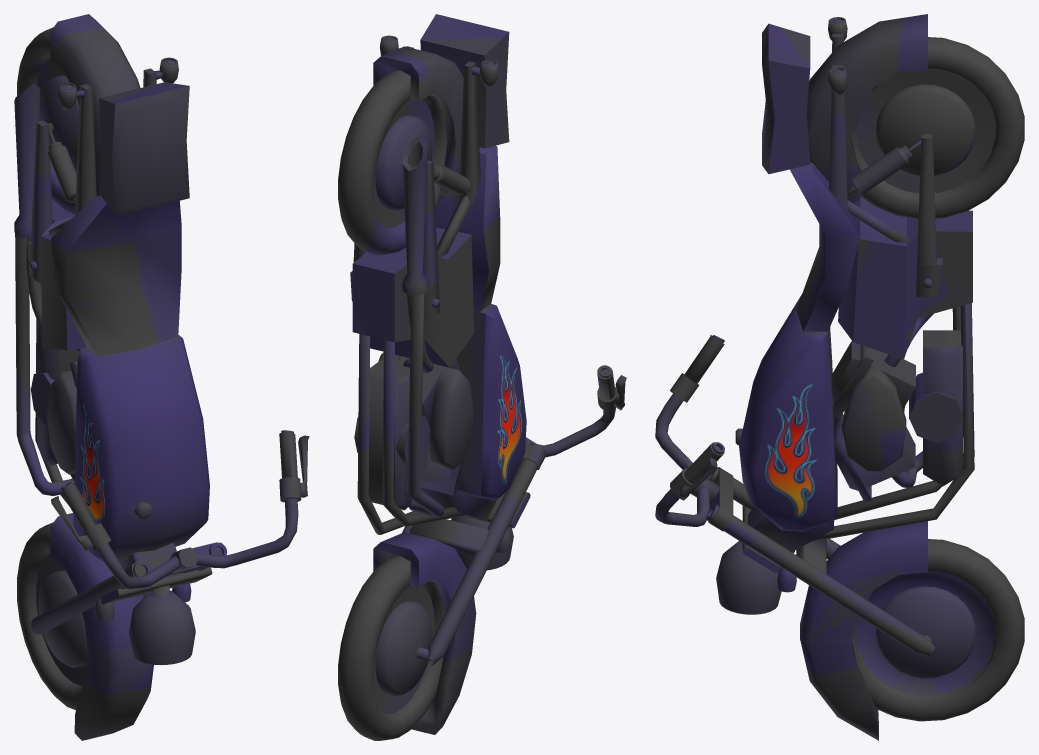
File: Bike_1.fbx
3 views of the same model, side by side, from view 1: azimuth 30°, elevation 25°; view 2: azimuth 150°, elevation 25°; view 3: azimuth 270°, elevation 25° (orthographic). The views are drawn at different scales.
Parts seen in each view (by area): view 1: MotorA.002, MotorA.001, MotorA.003, MotorA.004, MotorA.005, MotorA.006; view 2: MotorA.003, MotorA.002, MotorA.006, MotorA.001, MotorA.005, MotorA.004; view 3: MotorA.003, MotorA.002, MotorA.001, MotorA.006, MotorA.005, MotorA.004.
Part boxes in pixels (x1,y1,x2,y2): MotorA.002: [14, 14, 309, 740]; MotorA.001: [73, 70, 209, 577]; MotorA.003: [26, 56, 298, 688]; MotorA.004: [51, 195, 181, 355]; MotorA.005: [61, 82, 301, 551]; MotorA.006: [17, 27, 81, 710]; MotorA.003: [350, 46, 615, 716]; MotorA.002: [373, 35, 626, 734]; MotorA.006: [338, 70, 447, 740]; MotorA.001: [398, 48, 526, 520]; MotorA.005: [420, 14, 617, 410]; MotorA.004: [435, 146, 500, 312]; MotorA.003: [655, 34, 996, 699]; MotorA.002: [677, 14, 975, 740]; MotorA.001: [739, 33, 841, 551]; MotorA.006: [851, 37, 1024, 721]; MotorA.005: [670, 23, 810, 496]; MotorA.004: [790, 162, 860, 331].
Size of the model in its own units: 1.09 by 2.86 by 1.34.
Materials: 8 (8 with a texture image).
